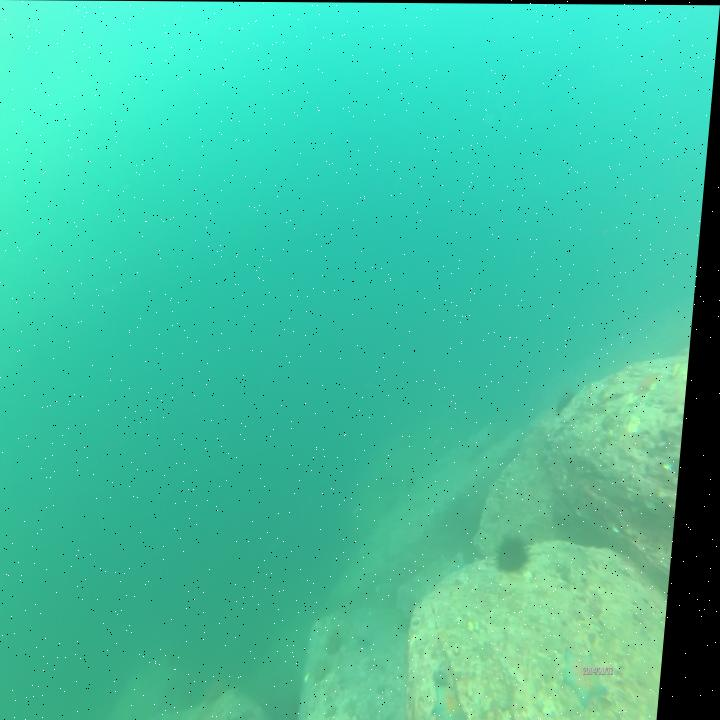echinus: (506, 531, 541, 573), (335, 623, 359, 655), (563, 386, 586, 418)
starfish: (572, 643, 625, 706), (440, 676, 484, 720)
